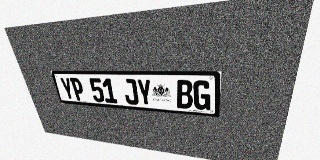1: (101, 78, 117, 103)
5: (89, 78, 105, 102)
B: (176, 80, 193, 109)
G: (193, 80, 211, 110)
J: (122, 79, 139, 105)
P: (69, 78, 86, 101)
Y: (136, 79, 153, 106), (59, 77, 76, 100)
